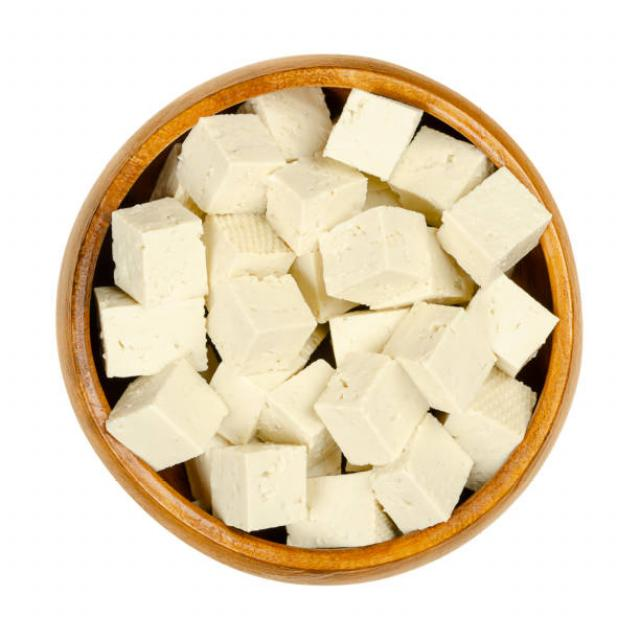Tofu Block: (439, 167, 543, 285), (319, 204, 434, 310), (315, 351, 422, 464), (204, 270, 316, 375), (111, 196, 214, 308), (181, 113, 285, 220), (114, 365, 227, 463), (320, 92, 423, 180), (212, 439, 309, 532)
